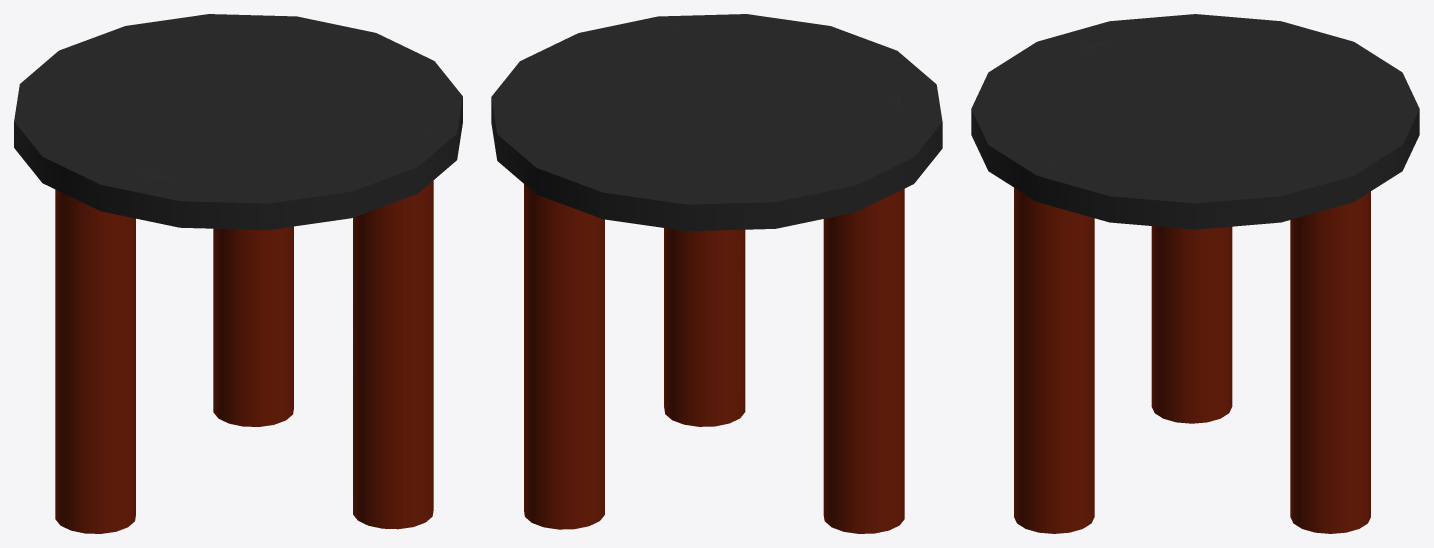
Rendered from Cannon_Stand.fbx.
3 views of the same model, side by side, from view 1: azimuth 30°, elevation 25°; view 2: azimuth 150°, elevation 25°; view 3: azimuth 270°, elevation 25° (orthographic).
Visible parts, largest first — view 1: Cannon_Stand; view 2: Cannon_Stand; view 3: Cannon_Stand.
Boxes of the visible parts, x1,y1,x2,y2 form: Cannon_Stand: (14,14,462,533); Cannon_Stand: (491,14,942,533); Cannon_Stand: (971,14,1419,533).
Bounding box in the file's own units: 1546 × 1400 × 1546.
1 material, 1 textured.
